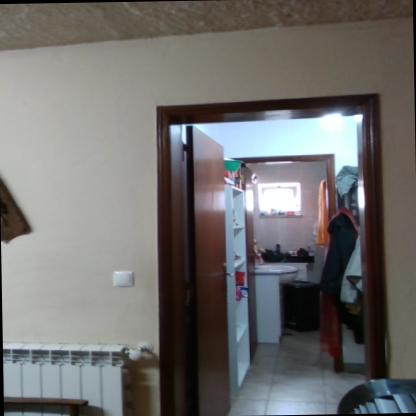open: (148, 72, 396, 392)
